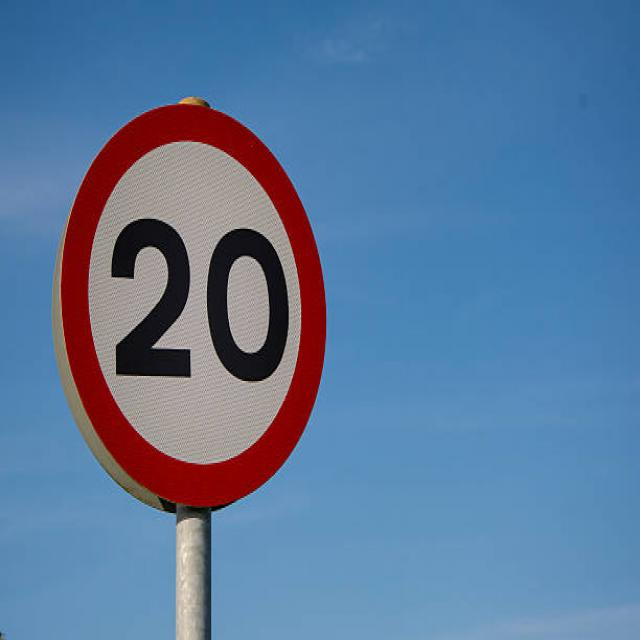speed_limit_20: (43, 69, 337, 513)
